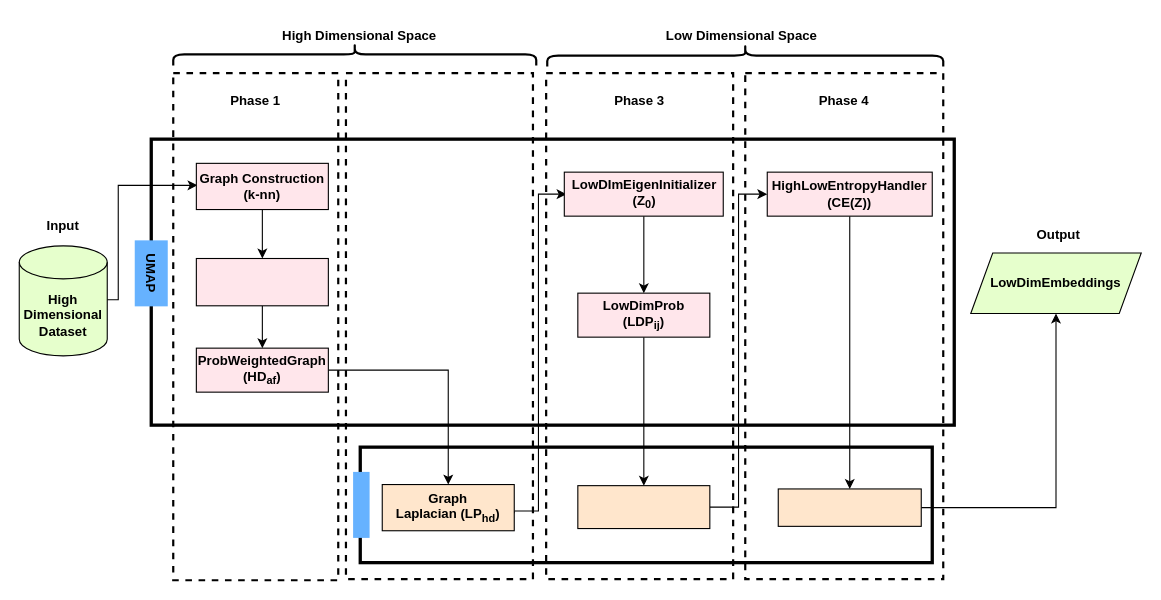
This 1161x600 diagram has some shape labels left out. The centre of each missing label's shape, as x and y in pixels:
"HighDimProb (HDP ij )" belongs at point (261, 281).
"LaplacianRegularizer (Reg(Z))" belongs at point (849, 507).
"LAPtSNE" belongs at point (361, 504).
"LowDimLaplacian (LP ld )" belongs at point (643, 507).
"Phase 2" belongs at point (439, 326).
